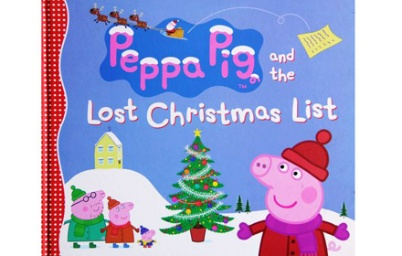Peppa: (236, 128, 348, 256), (102, 195, 139, 250)
